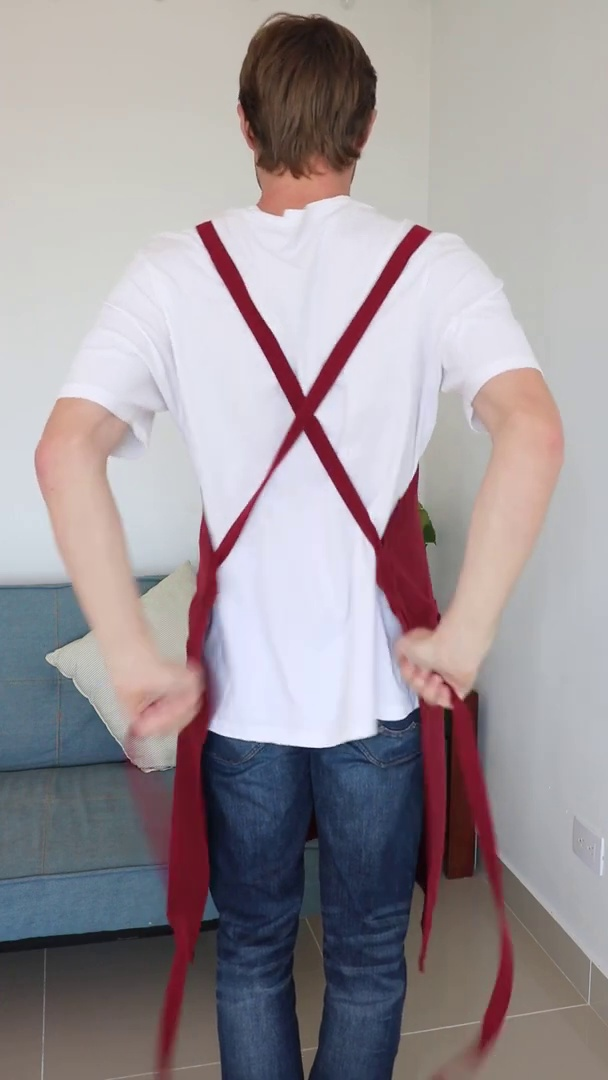Apron: (198, 205, 423, 727)
No_Glove: (116, 655, 208, 744), (393, 620, 477, 707)
No_Hairnet: (232, 10, 381, 175)
